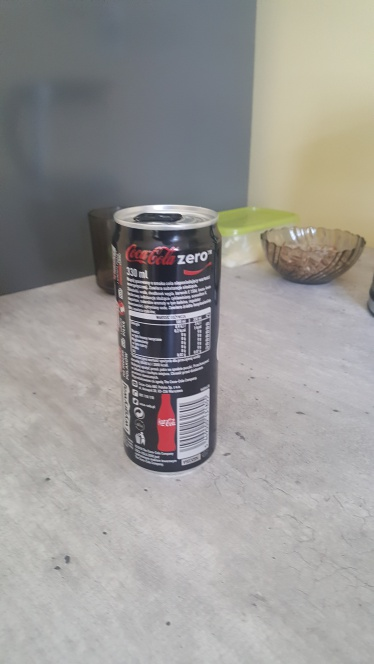colazero: (118, 203, 219, 470)
